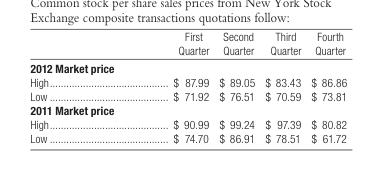table: (29, 29, 346, 144)
table column: (110, 29, 213, 144), (29, 29, 110, 144), (213, 29, 259, 144), (259, 29, 305, 144), (305, 29, 346, 144)
table column header: (29, 29, 346, 58)
table projected row header: (29, 58, 346, 74), (29, 102, 346, 117)
table row: (29, 29, 346, 58), (29, 58, 346, 74), (29, 102, 346, 117), (29, 74, 346, 88), (29, 88, 346, 102), (29, 117, 346, 131), (29, 131, 346, 144)
